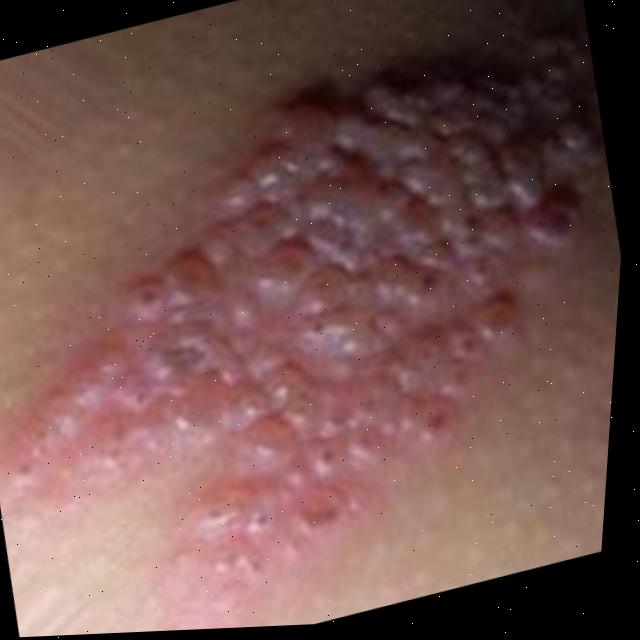Shingles: (0, 13, 637, 634)
